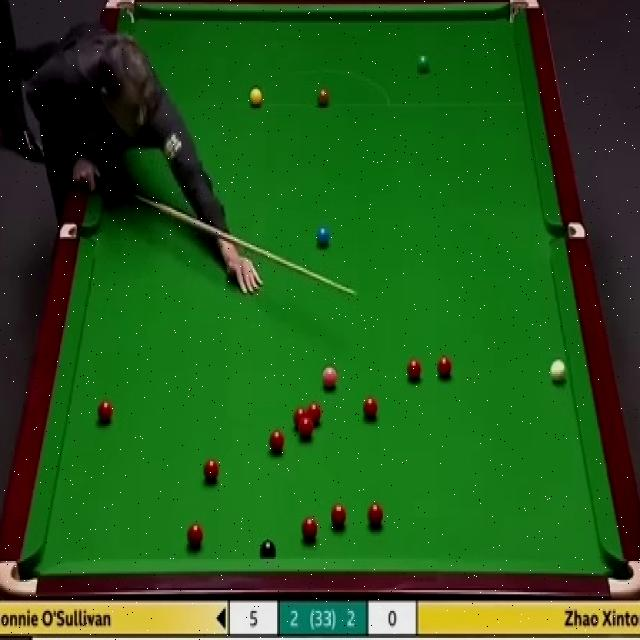black-ball: (259, 541, 276, 557)
blue-ball: (315, 225, 329, 248)
brown-ball: (317, 88, 329, 106)
green-ball: (418, 51, 429, 72)
pink-ball: (320, 366, 339, 388)
red-ball: (268, 428, 286, 456), (186, 521, 204, 548), (300, 515, 318, 542), (202, 458, 221, 483), (330, 504, 347, 531), (298, 416, 314, 444), (436, 354, 452, 381), (305, 401, 322, 426), (96, 401, 113, 424), (363, 395, 378, 420), (367, 504, 384, 526), (294, 407, 308, 431), (407, 359, 422, 381)
white-ball: (550, 356, 566, 389)
yellow-ball: (247, 88, 263, 108)
